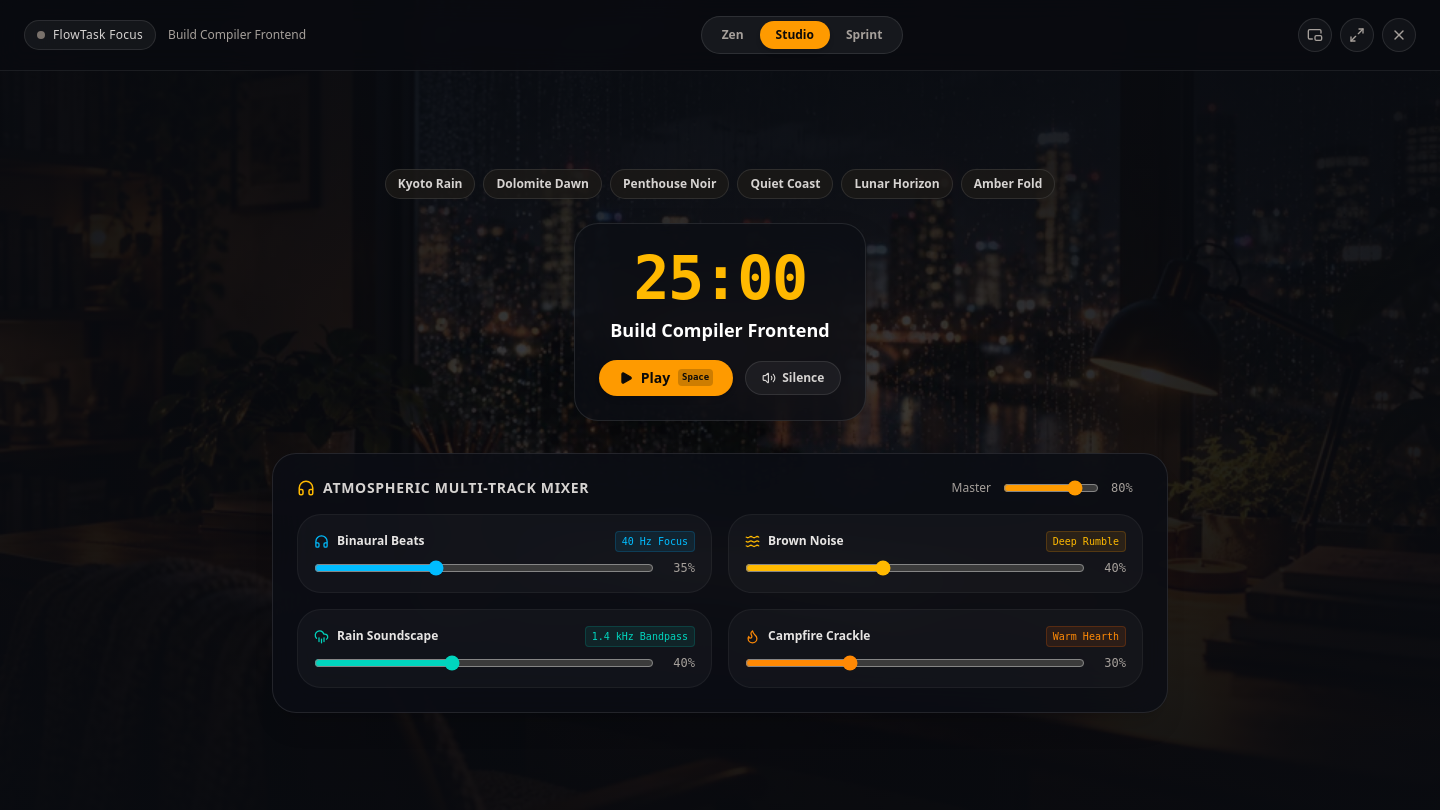
Test: FocusEngineModal (Milestone 3 Comprehensive Suite) › 3. Lo-Fi Studio Audio Mixer › 3.1 adjusts master volume slider and displays updated percentage
The image size is (1440, 810).
Set the slider named "Master volume" to "0.90": [1083, 488] box left=1003, top=480, right=1099, bottom=496
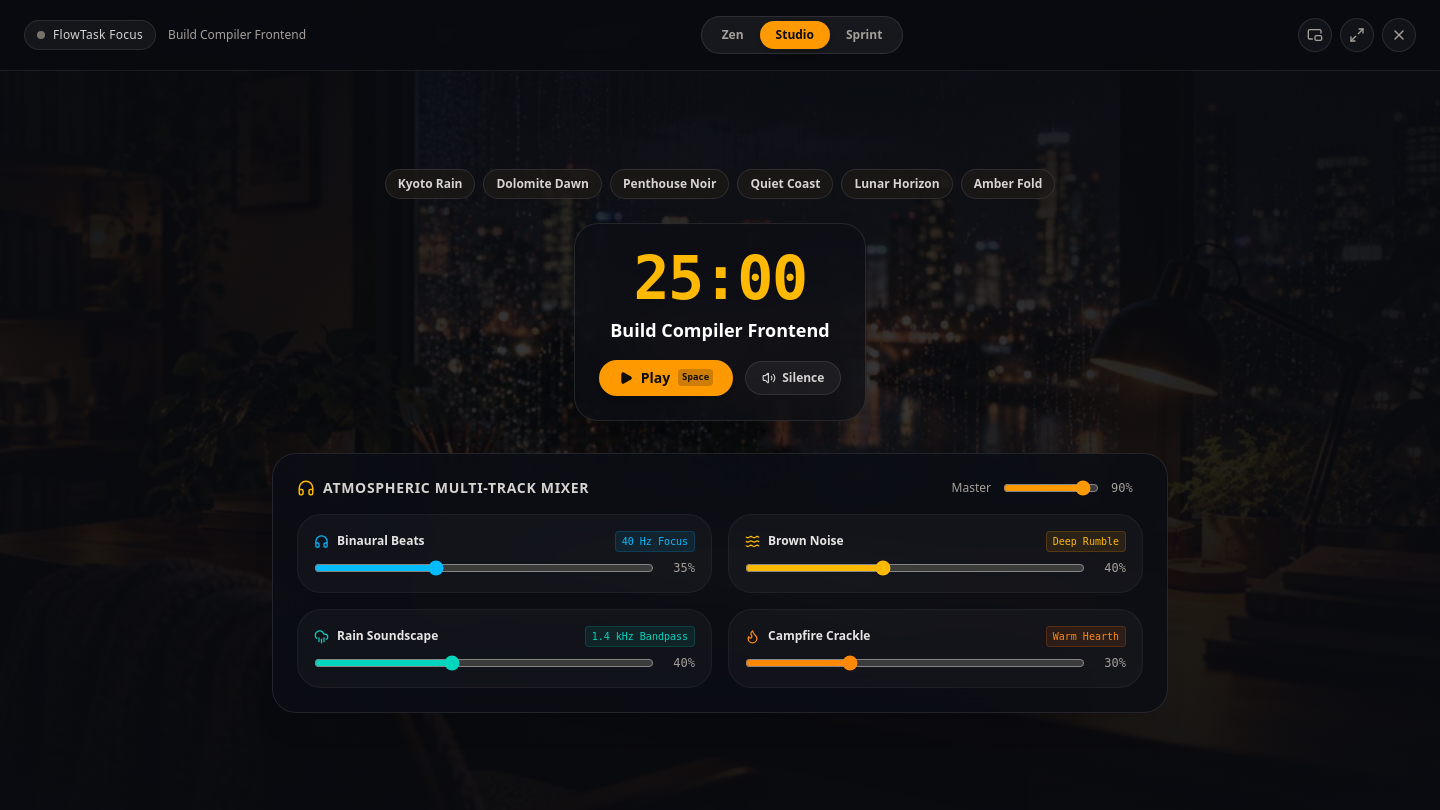
Expected: the text "90%" is shown, left=1111, top=480, right=1133, bottom=494
